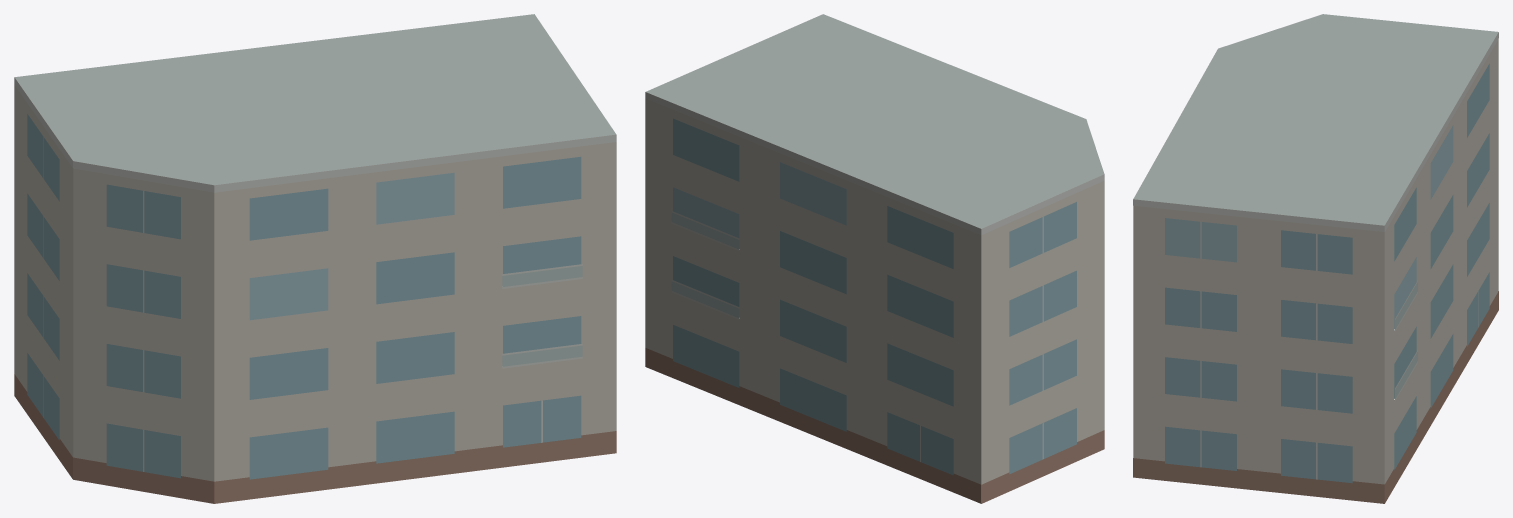
Rendered from survey-upis-32895583.glb.
The picture shows the model from 3 angles, left to right: view 1: azimuth 30°, elevation 25°; view 2: azimuth 150°, elevation 25°; view 3: azimuth 270°, elevation 25°; orthographic projection. The views are drawn at different scales.
Parts seen in each view (by area): view 1: survey-upis-32895583.tmp; view 2: survey-upis-32895583.tmp; view 3: survey-upis-32895583.tmp.
Part boxes in pixels (x1,y1,x2,y2): survey-upis-32895583.tmp: (14,14,616,503); survey-upis-32895583.tmp: (645,14,1104,503); survey-upis-32895583.tmp: (1133,14,1498,503).
Bounding box in the file's own units: 17.31 × 10.6 × 12.64.
